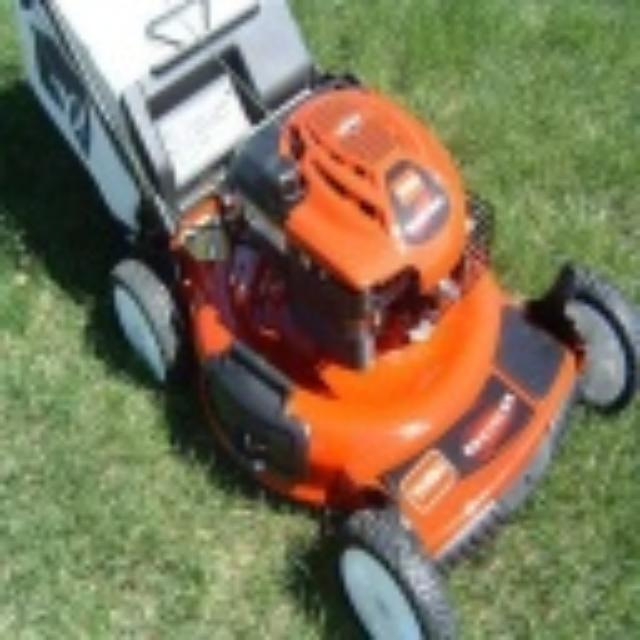Rotary-Mower: (5, 1, 635, 636)
